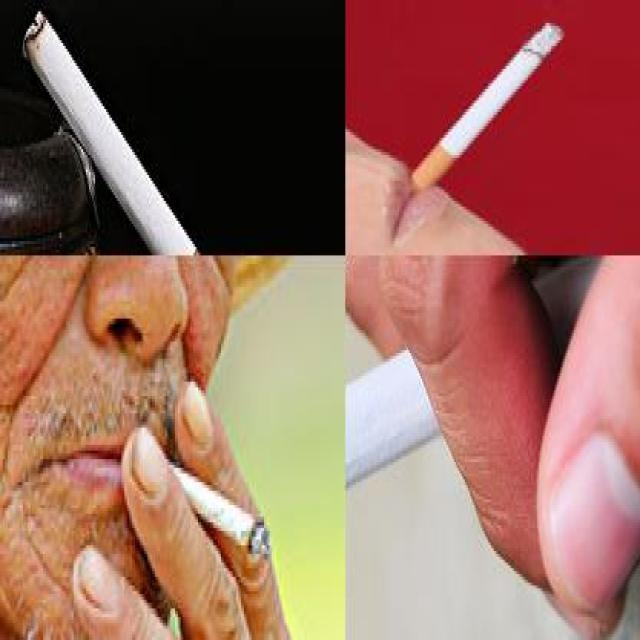smoking: (346, 255, 638, 603), (20, 6, 288, 252), (398, 21, 566, 211), (143, 441, 271, 564)
